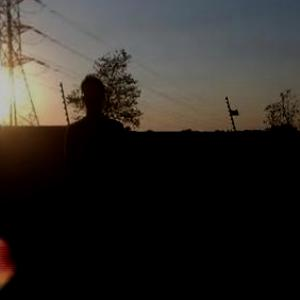follow: (64, 68, 132, 294)
